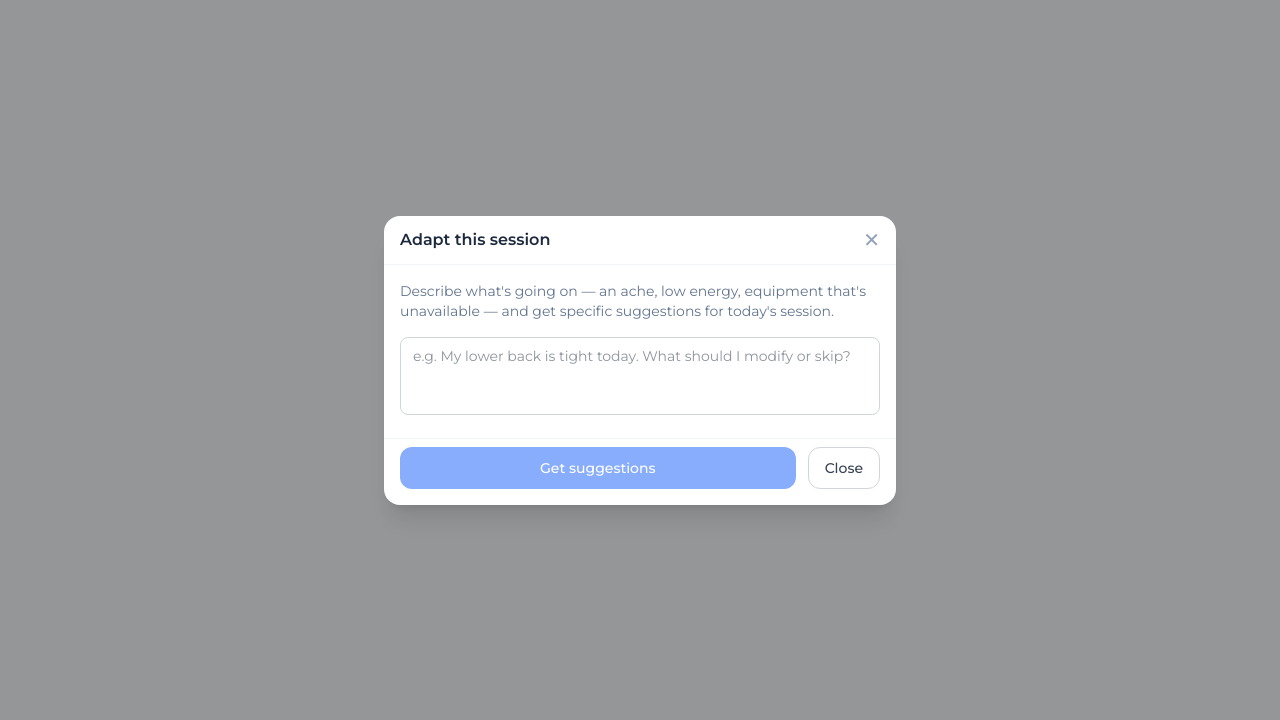
Scenario: AdaptSessionModal › submits session_snapshot and user_message in request body
Type "Tired" into the text box at (640, 376), box [400,336,880,414]
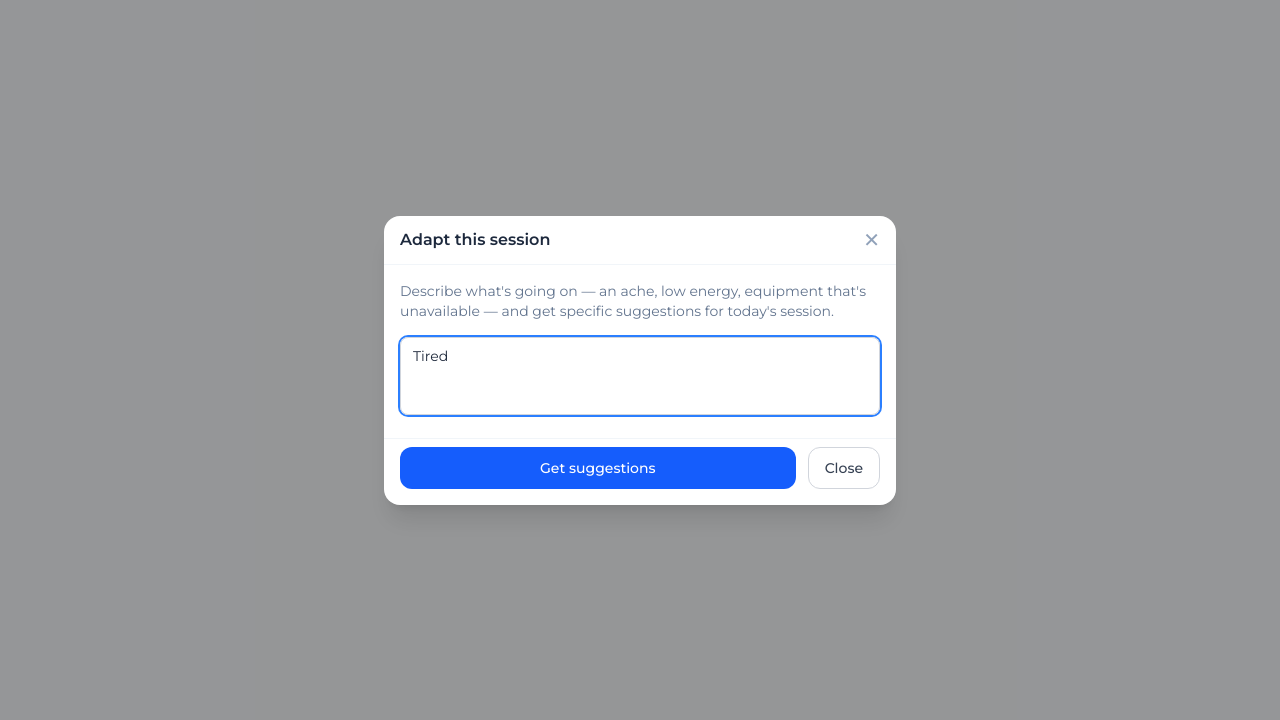
Click the button "Get suggestions" at (598, 468), box [400,446,796,488]
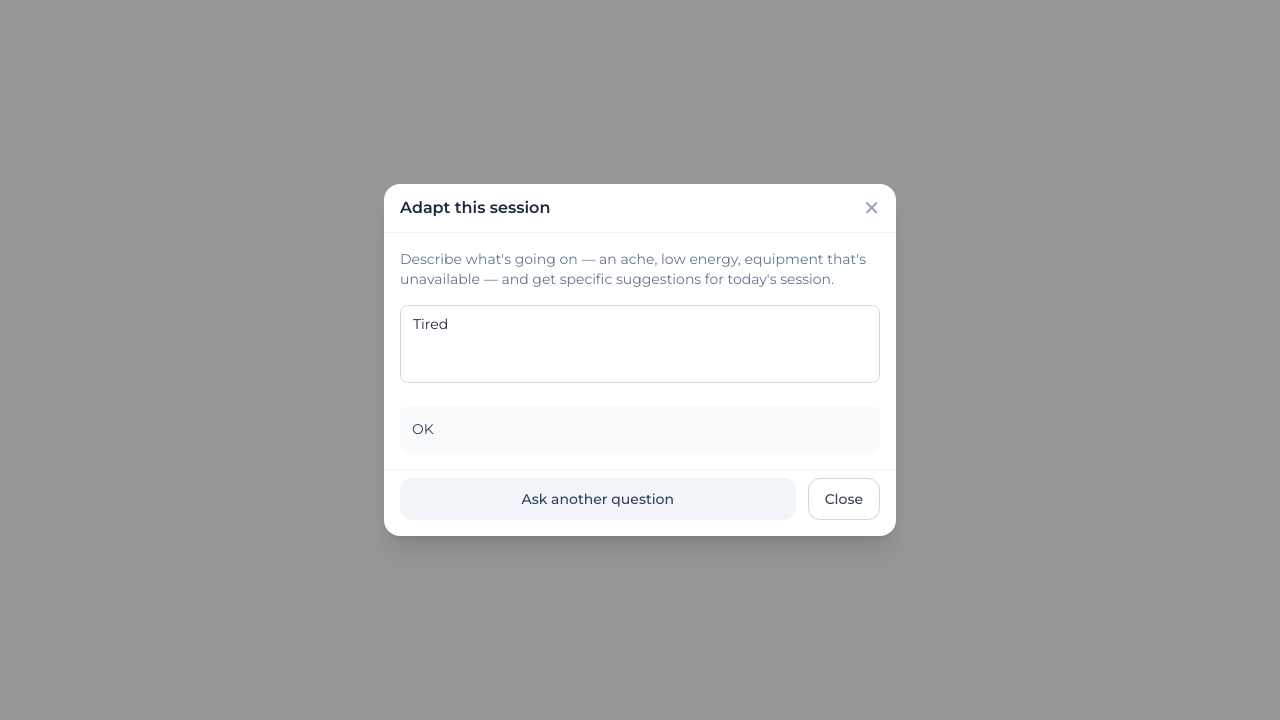
Check: the text "OK" is shown, box [412,420,434,438]
